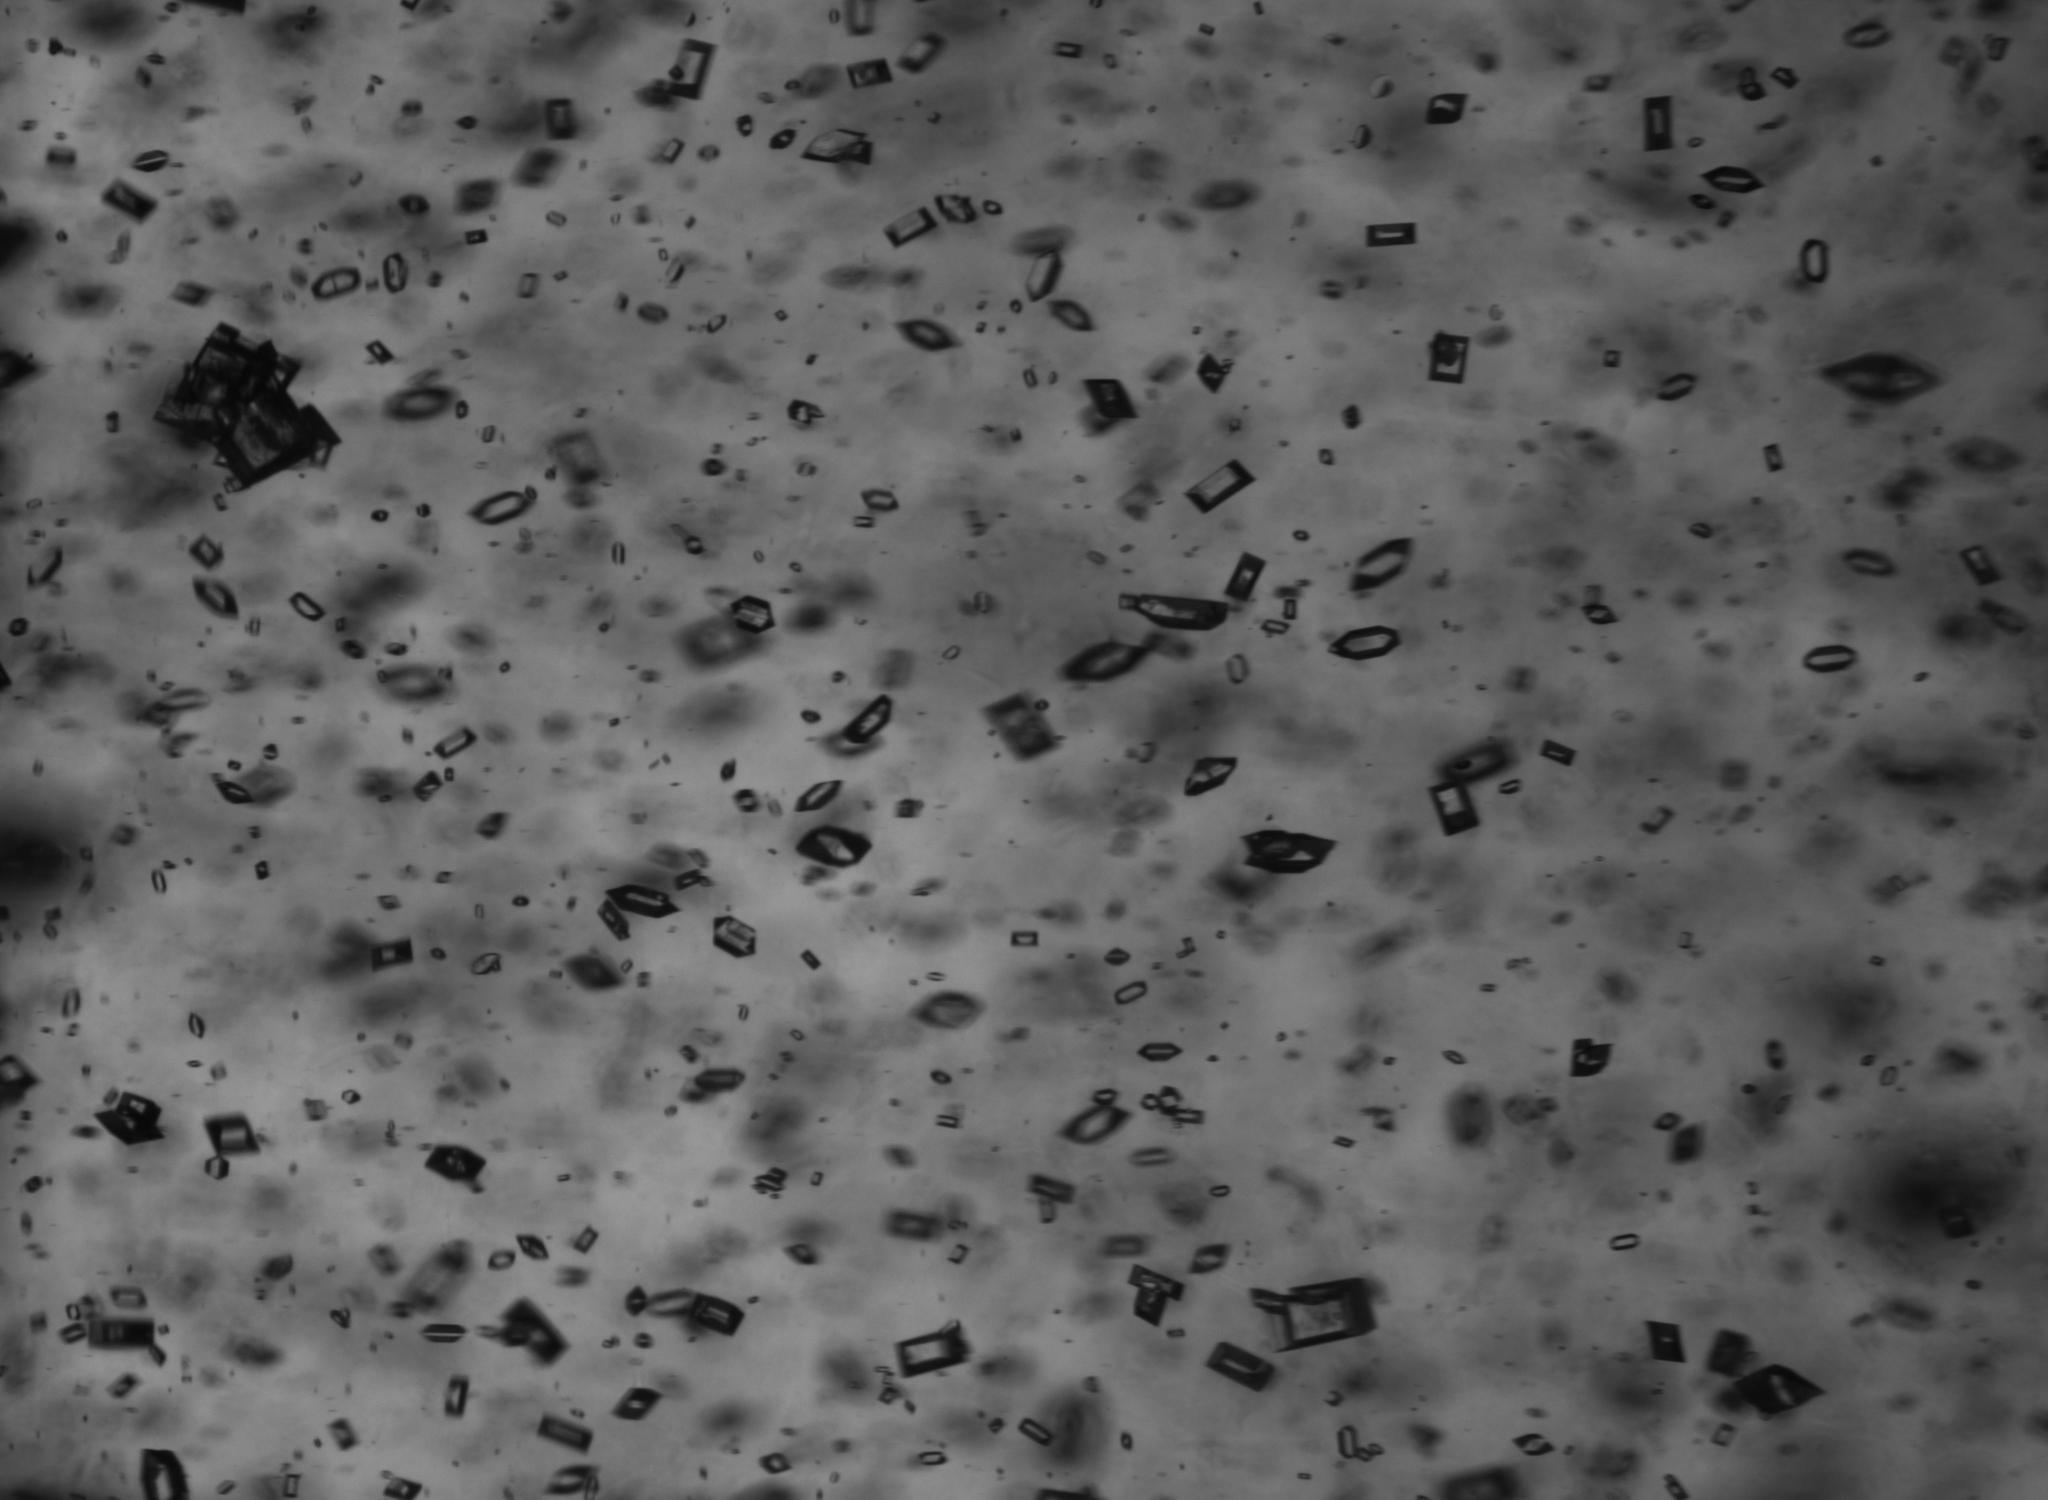crystal: (154, 324, 339, 490), (1250, 1277, 1375, 1350), (59, 1296, 165, 1363), (1821, 353, 1938, 404), (625, 1287, 744, 1336), (482, 1298, 568, 1363), (984, 692, 1061, 759), (641, 40, 716, 107), (1730, 1365, 1824, 1417), (598, 883, 679, 940), (1119, 593, 1235, 631), (897, 1320, 970, 1378), (1183, 458, 1256, 514), (1243, 829, 1334, 873), (1064, 639, 1158, 682), (1061, 1091, 1131, 1145), (94, 1093, 164, 1145), (1127, 1265, 1186, 1327), (1350, 538, 1412, 592), (1205, 1343, 1275, 1390), (797, 824, 871, 869), (425, 1144, 487, 1191), (836, 695, 892, 746), (204, 1115, 261, 1164), (1140, 1086, 1204, 1128), (801, 129, 873, 165), (469, 487, 537, 525), (140, 1449, 189, 1500), (1329, 625, 1399, 660), (1429, 786, 1479, 835), (1024, 242, 1064, 302), (681, 1067, 746, 1102), (1027, 1174, 1075, 1222), (1084, 379, 1135, 423), (1428, 331, 1471, 383), (1183, 756, 1237, 797), (537, 1413, 593, 1452), (884, 207, 938, 247), (102, 181, 156, 220), (544, 1463, 599, 1500), (897, 318, 957, 352), (1224, 554, 1266, 601), (898, 32, 946, 73), (1957, 544, 2002, 587), (1641, 95, 1674, 151), (712, 916, 757, 958), (728, 595, 774, 635), (1336, 1425, 1385, 1462), (1644, 1320, 1685, 1362), (1568, 1039, 1612, 1077), (1797, 239, 1832, 286), (428, 727, 477, 760), (612, 1387, 661, 1420), (194, 579, 237, 617), (25, 546, 64, 589), (1703, 165, 1763, 192), (1841, 547, 1895, 577), (1803, 644, 1857, 673), (933, 194, 984, 224), (795, 779, 843, 811), (312, 267, 361, 297), (1048, 299, 1094, 331), (1196, 353, 1232, 393), (544, 99, 579, 140), (844, 57, 892, 87), (1364, 221, 1417, 248), (369, 938, 413, 970), (380, 1470, 426, 1500), (1426, 92, 1468, 126), (1843, 21, 1891, 48), (1188, 1244, 1229, 1274), (1655, 372, 1697, 401), (213, 776, 254, 805), (189, 534, 224, 568), (382, 253, 410, 293), (860, 488, 900, 517), (288, 592, 324, 622), (1018, 1417, 1056, 1446), (785, 399, 824, 428), (674, 523, 708, 555), (444, 1376, 469, 1417), (1649, 1327, 1681, 1358), (752, 1168, 787, 1196), (1639, 806, 1674, 835), (1539, 740, 1576, 767), (328, 1419, 358, 1451), (412, 771, 445, 800), (1736, 67, 1765, 100), (1137, 1042, 1183, 1063), (420, 1322, 466, 1343), (673, 867, 711, 891), (172, 282, 210, 305), (1113, 980, 1148, 1005), (1514, 1433, 1553, 1455), (110, 1285, 146, 1309), (652, 137, 684, 164), (517, 1233, 549, 1260), (132, 150, 169, 172), (1582, 601, 1619, 624), (757, 1452, 792, 1475), (571, 1225, 598, 1253), (1224, 654, 1250, 684), (892, 797, 925, 819), (364, 340, 394, 364), (59, 986, 81, 1018), (1765, 1039, 1787, 1071), (398, 194, 429, 216), (785, 1242, 817, 1265), (733, 787, 760, 813), (471, 953, 501, 975), (1762, 442, 1784, 472), (636, 302, 668, 323), (663, 258, 687, 285), (1771, 65, 1798, 89), (768, 127, 797, 150), (280, 1470, 301, 1500), (517, 272, 539, 299), (914, 1449, 948, 1467), (1053, 40, 1083, 59), (204, 1158, 229, 1180), (488, 1249, 515, 1269), (701, 313, 728, 334), (1654, 1110, 1682, 1129), (1340, 404, 1363, 428), (1010, 929, 1040, 946), (1611, 1233, 1641, 1250), (1352, 124, 1372, 150), (700, 457, 727, 476), (1280, 593, 1297, 622), (149, 864, 167, 892), (24, 1176, 52, 1193), (876, 1382, 900, 1403), (188, 1013, 207, 1039), (1105, 946, 1131, 966), (1689, 522, 1716, 539), (800, 950, 822, 970), (1879, 1064, 1902, 1085), (1261, 619, 1290, 635), (1177, 935, 1196, 959), (1116, 391, 1134, 417), (935, 1113, 962, 1129), (611, 541, 628, 565), (719, 759, 736, 783), (1690, 194, 1716, 210), (48, 38, 73, 54), (948, 1244, 968, 1263), (331, 1309, 351, 1328), (1021, 366, 1038, 388), (464, 229, 488, 245), (1442, 1050, 1466, 1066), (852, 514, 876, 530), (679, 1045, 698, 1064), (736, 115, 754, 135), (1325, 1390, 1345, 1408), (930, 1069, 952, 1085), (1499, 778, 1522, 794), (377, 896, 401, 910), (1318, 447, 1336, 466), (941, 644, 962, 660), (456, 115, 477, 130), (545, 212, 568, 226), (261, 743, 278, 760), (1207, 1185, 1231, 1198), (340, 1090, 361, 1104), (107, 410, 119, 433), (480, 425, 496, 442), (987, 1417, 1005, 1433), (254, 861, 269, 880), (1119, 1432, 1134, 1451), (510, 894, 529, 908), (808, 1171, 824, 1187), (827, 6, 841, 24), (370, 509, 390, 522), (455, 399, 467, 418), (1010, 297, 1024, 313), (415, 504, 431, 517), (773, 309, 789, 321), (434, 872, 452, 883), (1293, 530, 1310, 541), (987, 202, 1000, 215), (1247, 1037, 1255, 1045)
